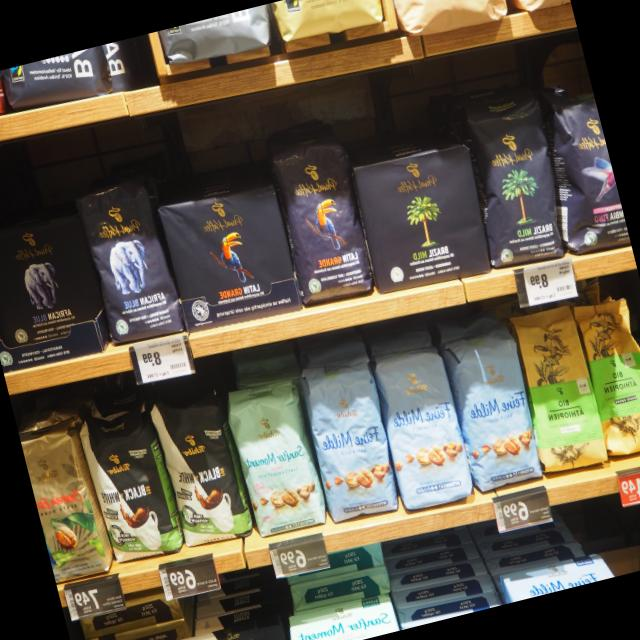AB Bohne: (70, 169, 189, 347)
AB Gemahlen: (0, 214, 104, 372)
Athiopien Bohne: (569, 287, 640, 461)
Athiopien Gemahlen: (504, 300, 614, 480)
BM Bohne: (459, 66, 568, 272)
BM Gemahlen: (349, 137, 493, 293)
BW Bohne: (72, 396, 188, 572), (146, 380, 258, 552)
C Fino Bohne: (528, 77, 630, 262)
Colombia BB Bohne: (18, 414, 118, 583)
FM Bohne: (362, 338, 480, 517), (290, 348, 408, 526), (437, 320, 550, 496)
LG Bohne: (265, 131, 377, 305)
LG Gemahlen: (153, 176, 303, 332)
SM Bohne: (219, 372, 331, 540)
